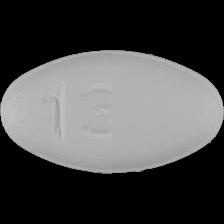35356-652: (0, 0, 224, 224)
